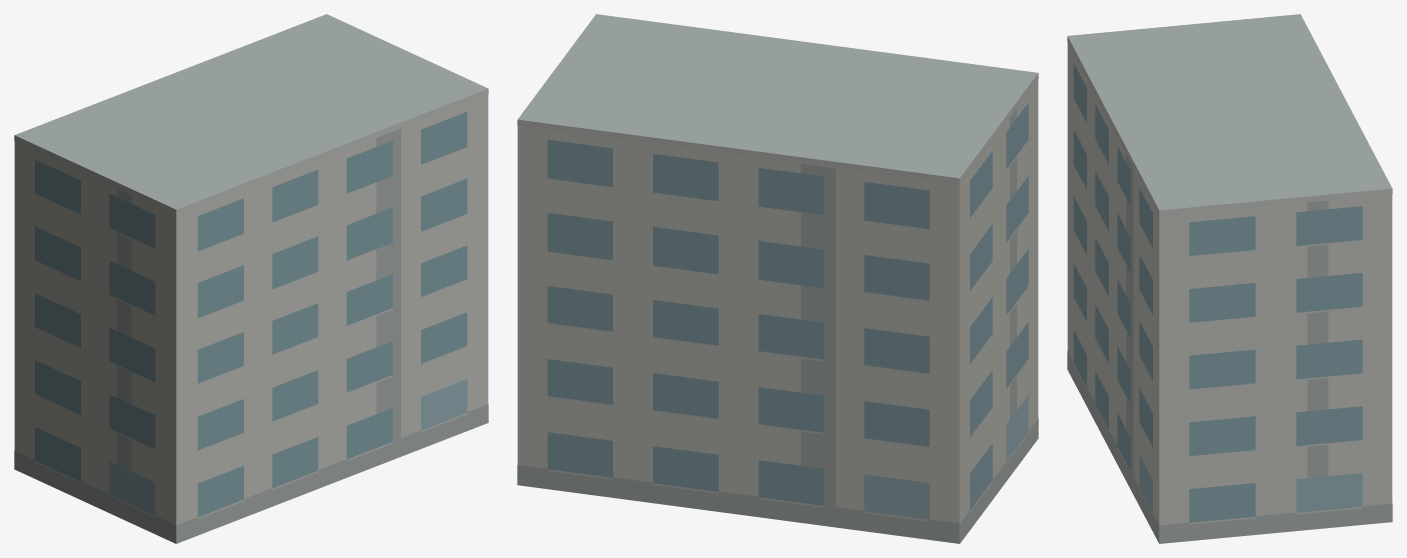
The model's file is survey-upis-32809570.glb.
3 renders of one model, left to right at view 1: azimuth 30°, elevation 25°; view 2: azimuth 150°, elevation 25°; view 3: azimuth 270°, elevation 25°, orthographic. The views are drawn at different scales.
Visible parts, largest first — view 1: survey-upis-32809570.tmp; view 2: survey-upis-32809570.tmp; view 3: survey-upis-32809570.tmp.
Boxes of the visible parts, x1,y1,x2,y2 form: survey-upis-32809570.tmp: (14, 14, 488, 543); survey-upis-32809570.tmp: (517, 14, 1038, 543); survey-upis-32809570.tmp: (1067, 14, 1392, 543).
Size of the model in its own units: 16.8 by 13.3 by 11.76.
